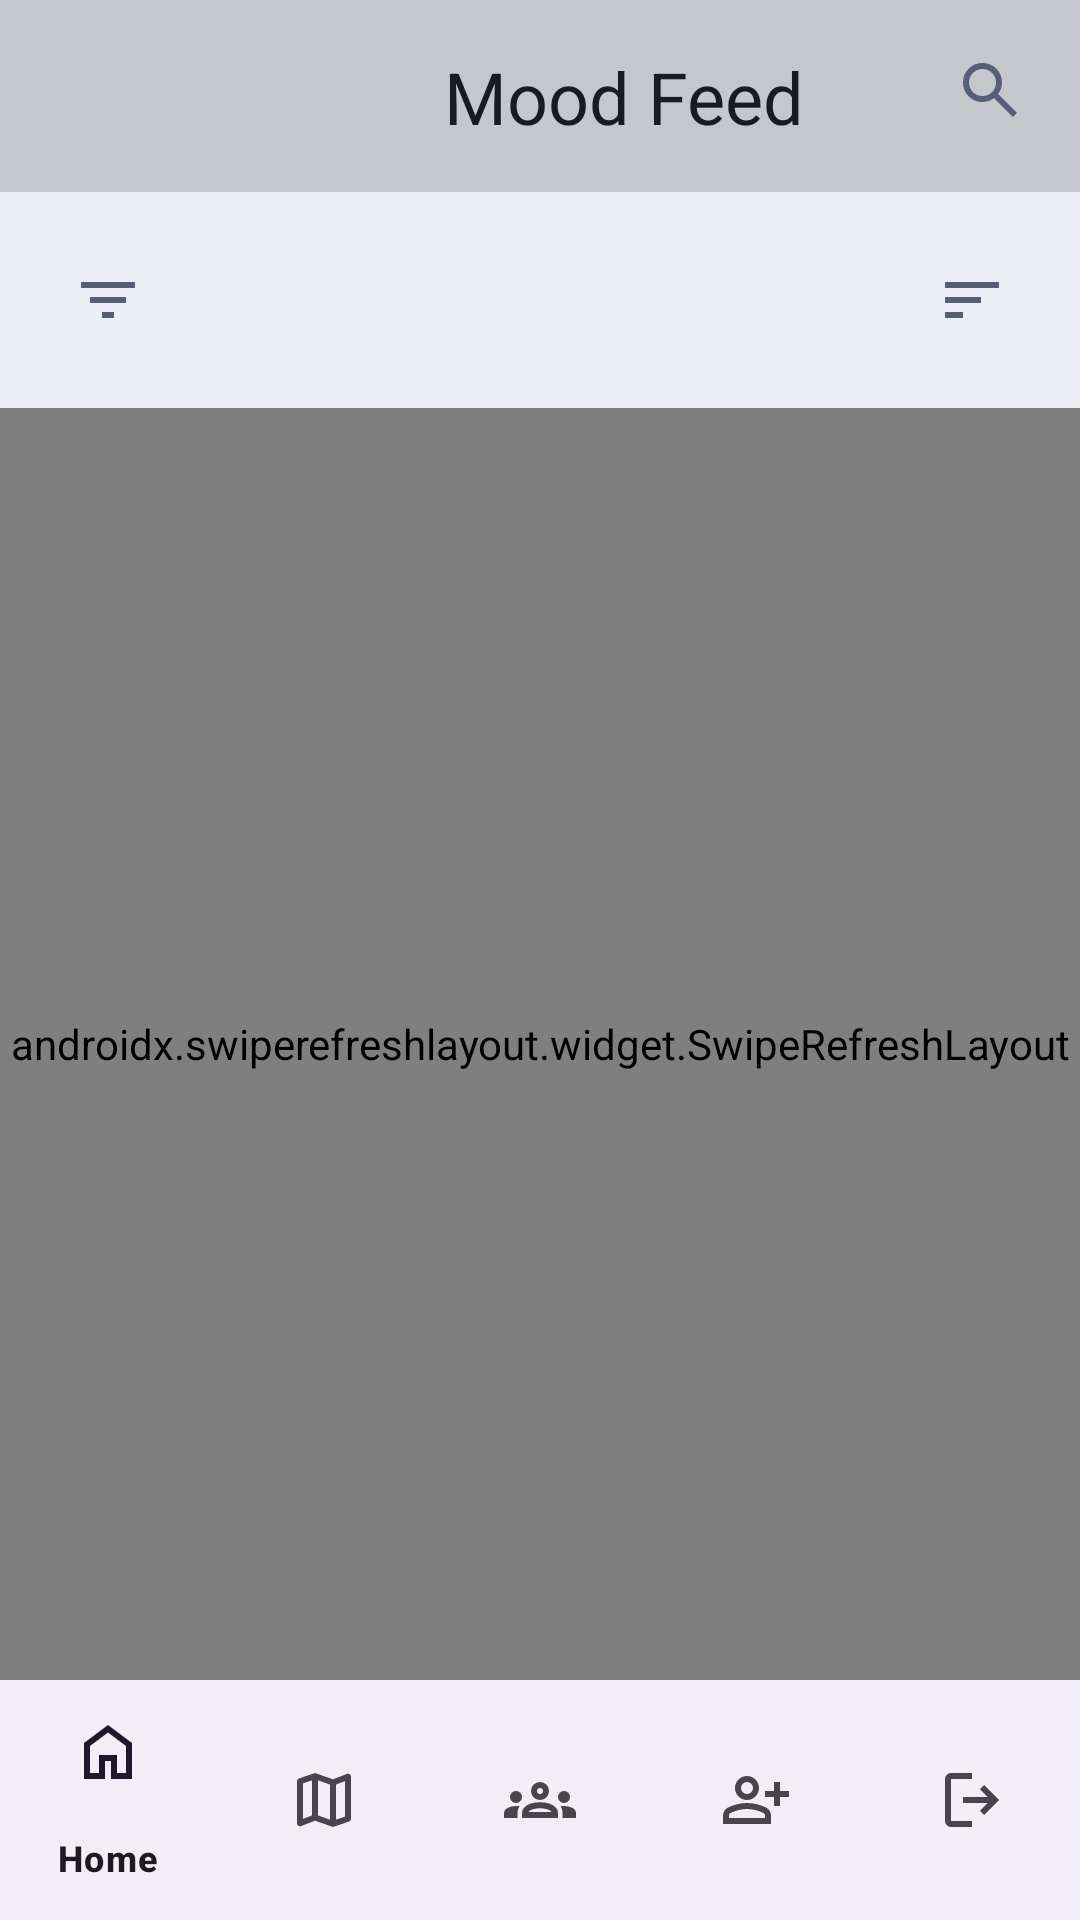

Icons on this 1080×1920 Android screen, each with its box as (x1, y1, x2, y2):
Filter Mood List: (81, 282, 135, 318)
Search Users: (963, 63, 1017, 117)
Sort Mood List: (945, 282, 999, 318)
